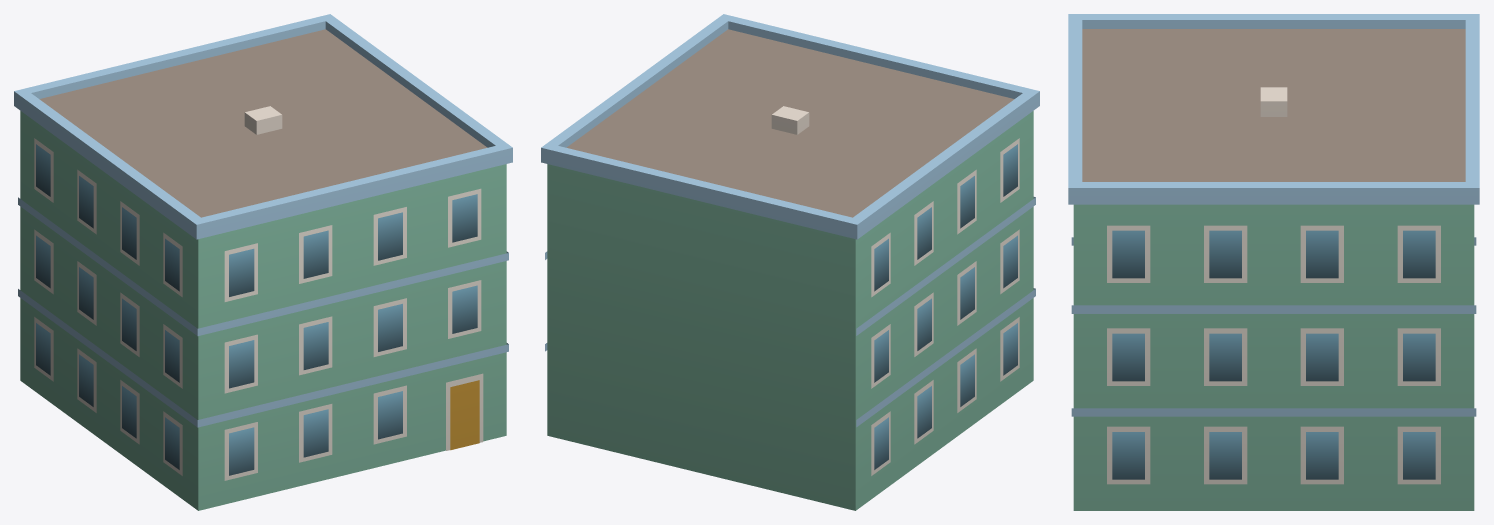
The model's file is tremont_n2_far.glb.
The picture shows the model from 3 angles, left to right: view 1: azimuth 30°, elevation 25°; view 2: azimuth 150°, elevation 25°; view 3: azimuth 270°, elevation 25°; orthographic projection. The views are drawn at different scales.
Visible parts, largest first — view 1: tremont_n2_far; view 2: tremont_n2_far; view 3: tremont_n2_far.
Boxes of the visible parts, x1,y1,x2,y2 form: tremont_n2_far: (14,14,512,510); tremont_n2_far: (541,14,1039,510); tremont_n2_far: (1068,14,1479,510).
Bounding box in the file's own units: 12.32 × 10.97 × 12.32.
1 material, 1 textured.
